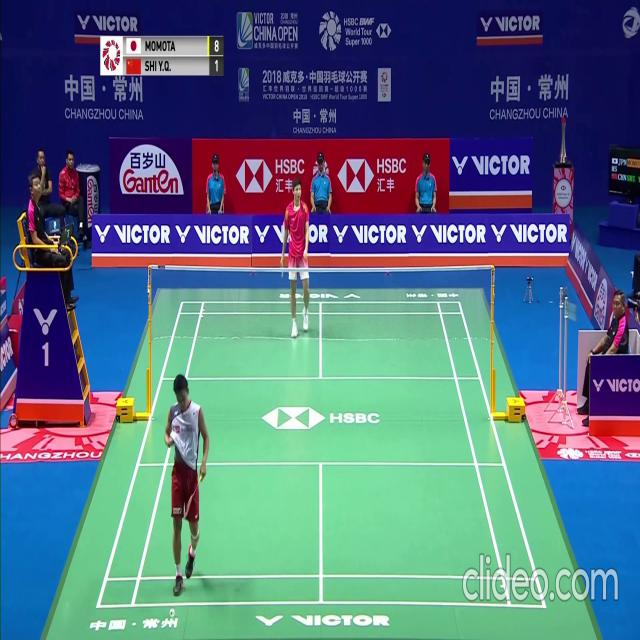Shuttlecock: (169, 607, 174, 615)
